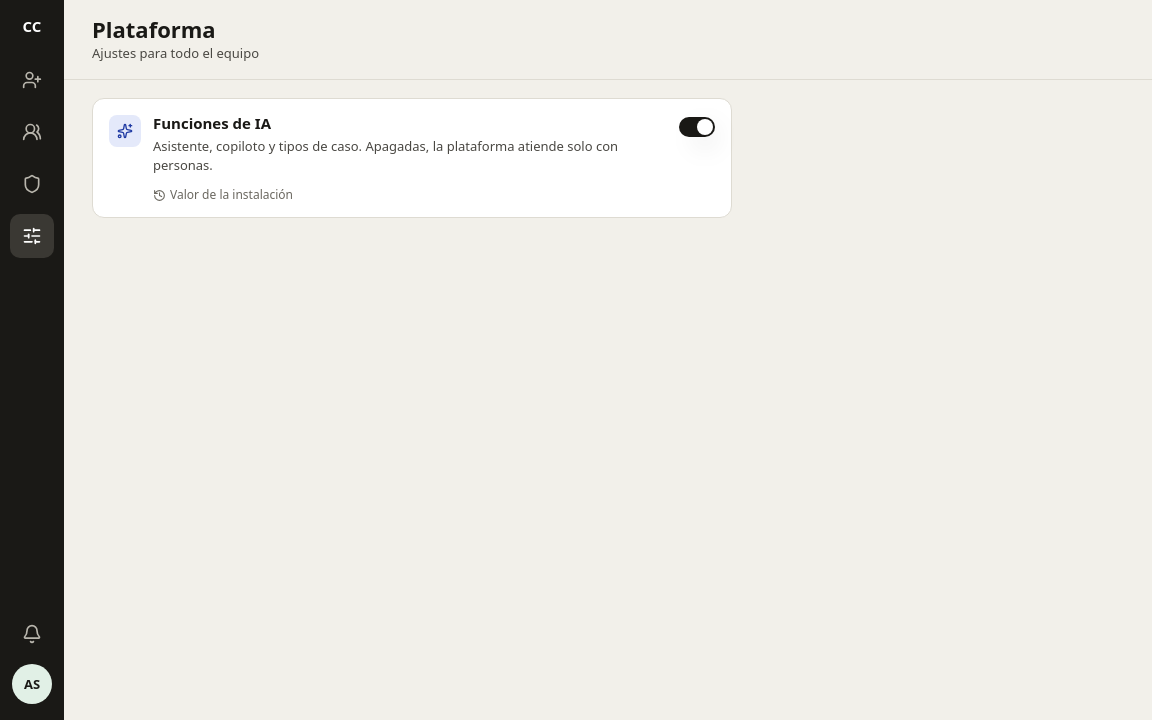
Scenario: /admin/platform ("Plataforma", slice 18) › puts the switch back and says why when the change fails
The image size is (1152, 720).
Click the switch named "Funciones de IA": [697, 127] box [679,117,715,137]
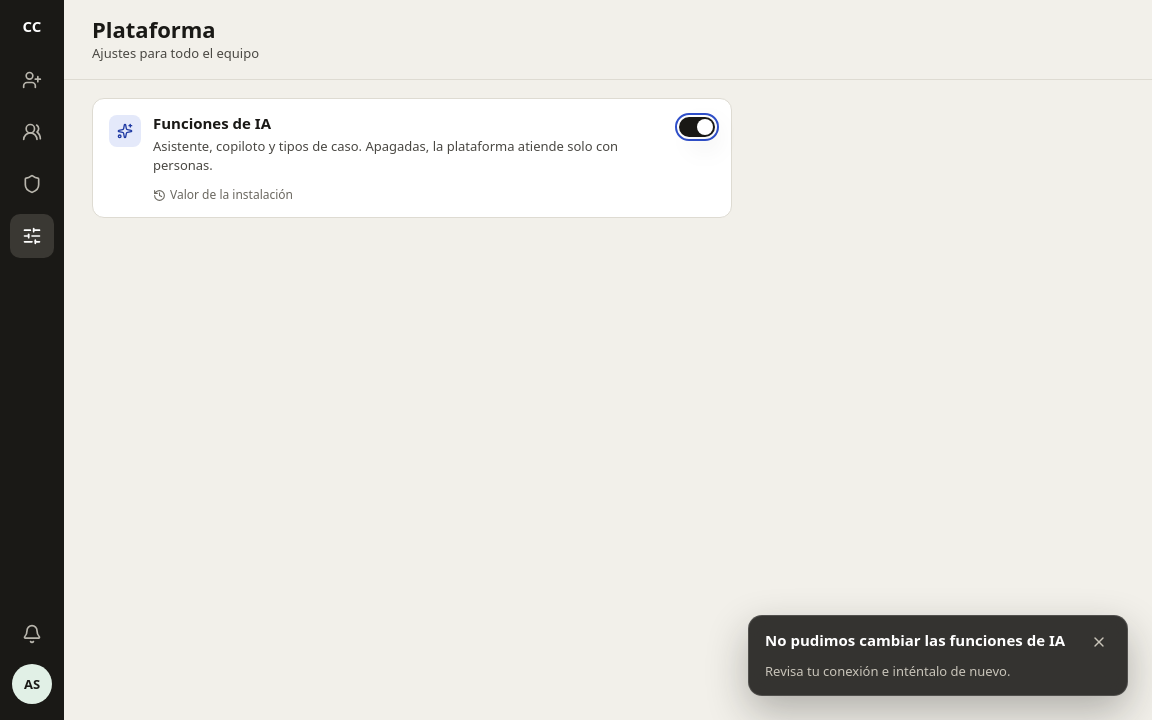
Result: the message shows "No pudimos cambiar las funciones de IA" at [765,630,1065,650]
Result: the message shows "Revisa tu conexión e inténtalo de nuevo." at [765,662,1010,680]
